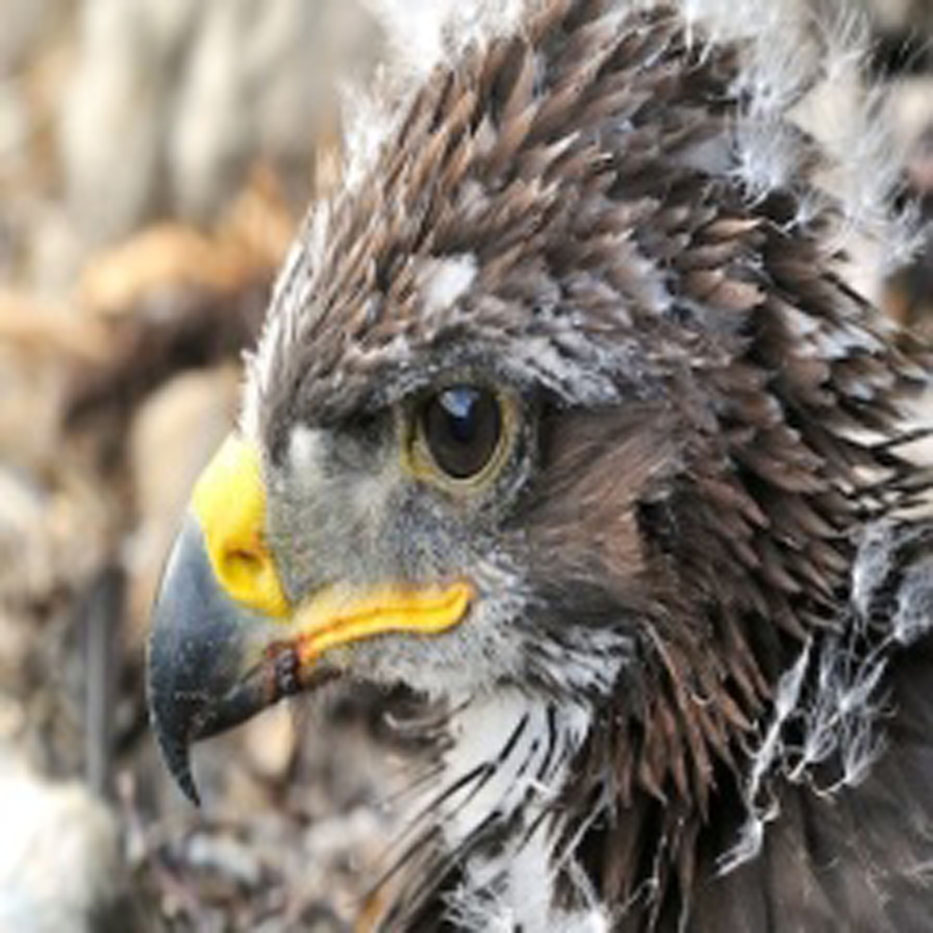Pengoyak Daging: (104, 452, 315, 836)
